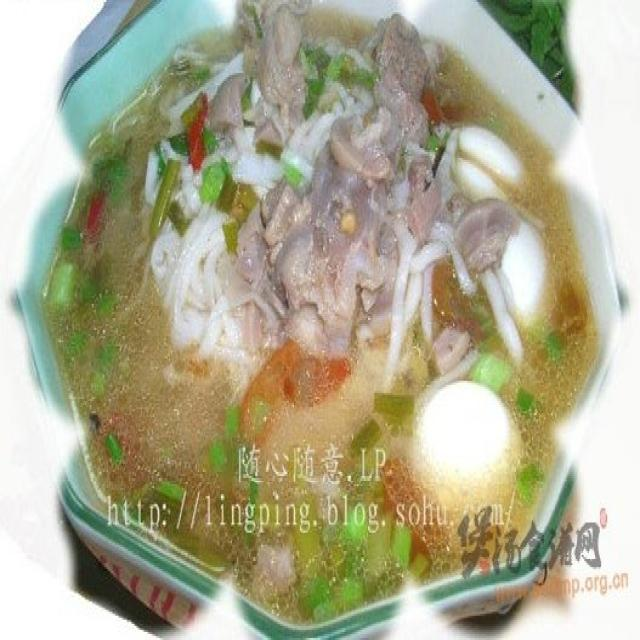面条主食: (37, 4, 604, 634)
